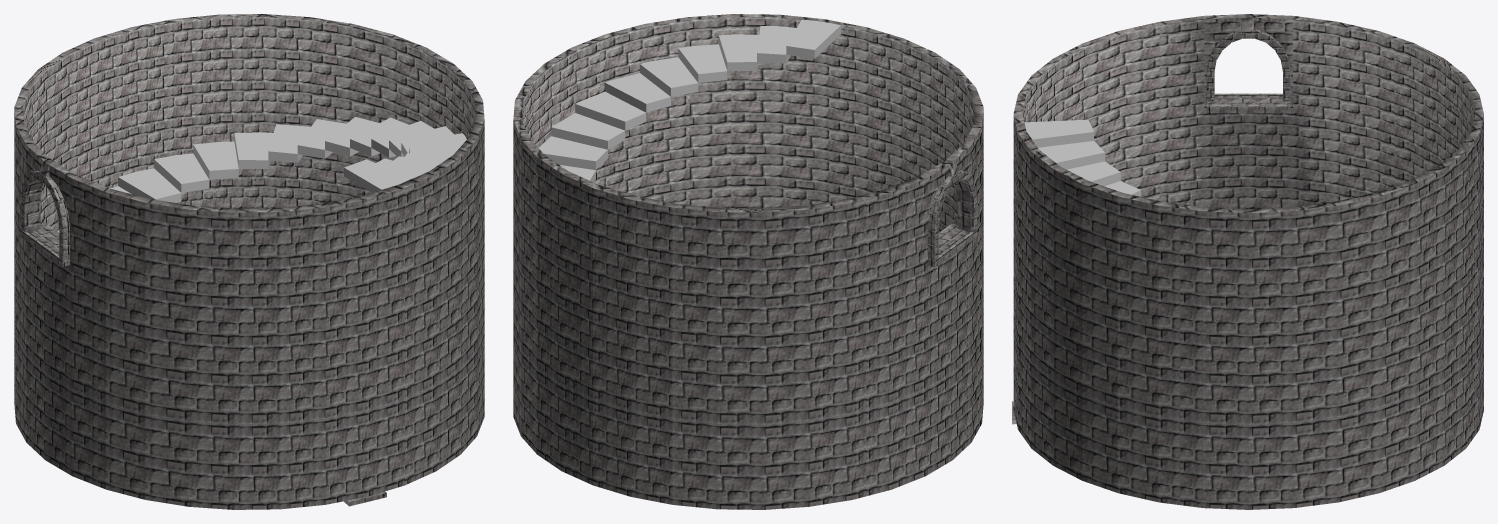
File: WindowFlame_12.fbx
3 renders of one model, left to right at view 1: azimuth 30°, elevation 25°; view 2: azimuth 150°, elevation 25°; view 3: azimuth 270°, elevation 25°, orthographic.
Visible parts, largest first — view 1: Cylinder.001; view 2: Cylinder.001; view 3: Cylinder.001.
Part boxes in pixels (x1,y1,x2,y2): Cylinder.001: (14, 14, 484, 509); Cylinder.001: (513, 14, 983, 509); Cylinder.001: (1012, 14, 1483, 509).
Bounding box in the file's own units: 938 × 659 × 932.
